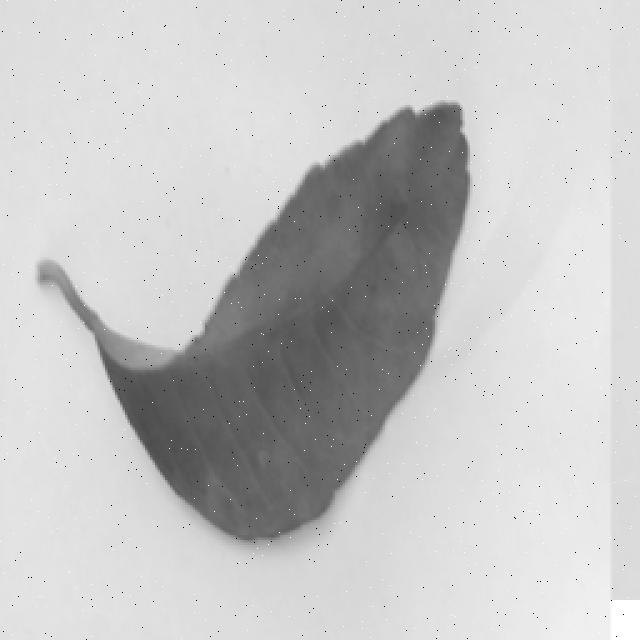greening: (24, 89, 492, 548)
